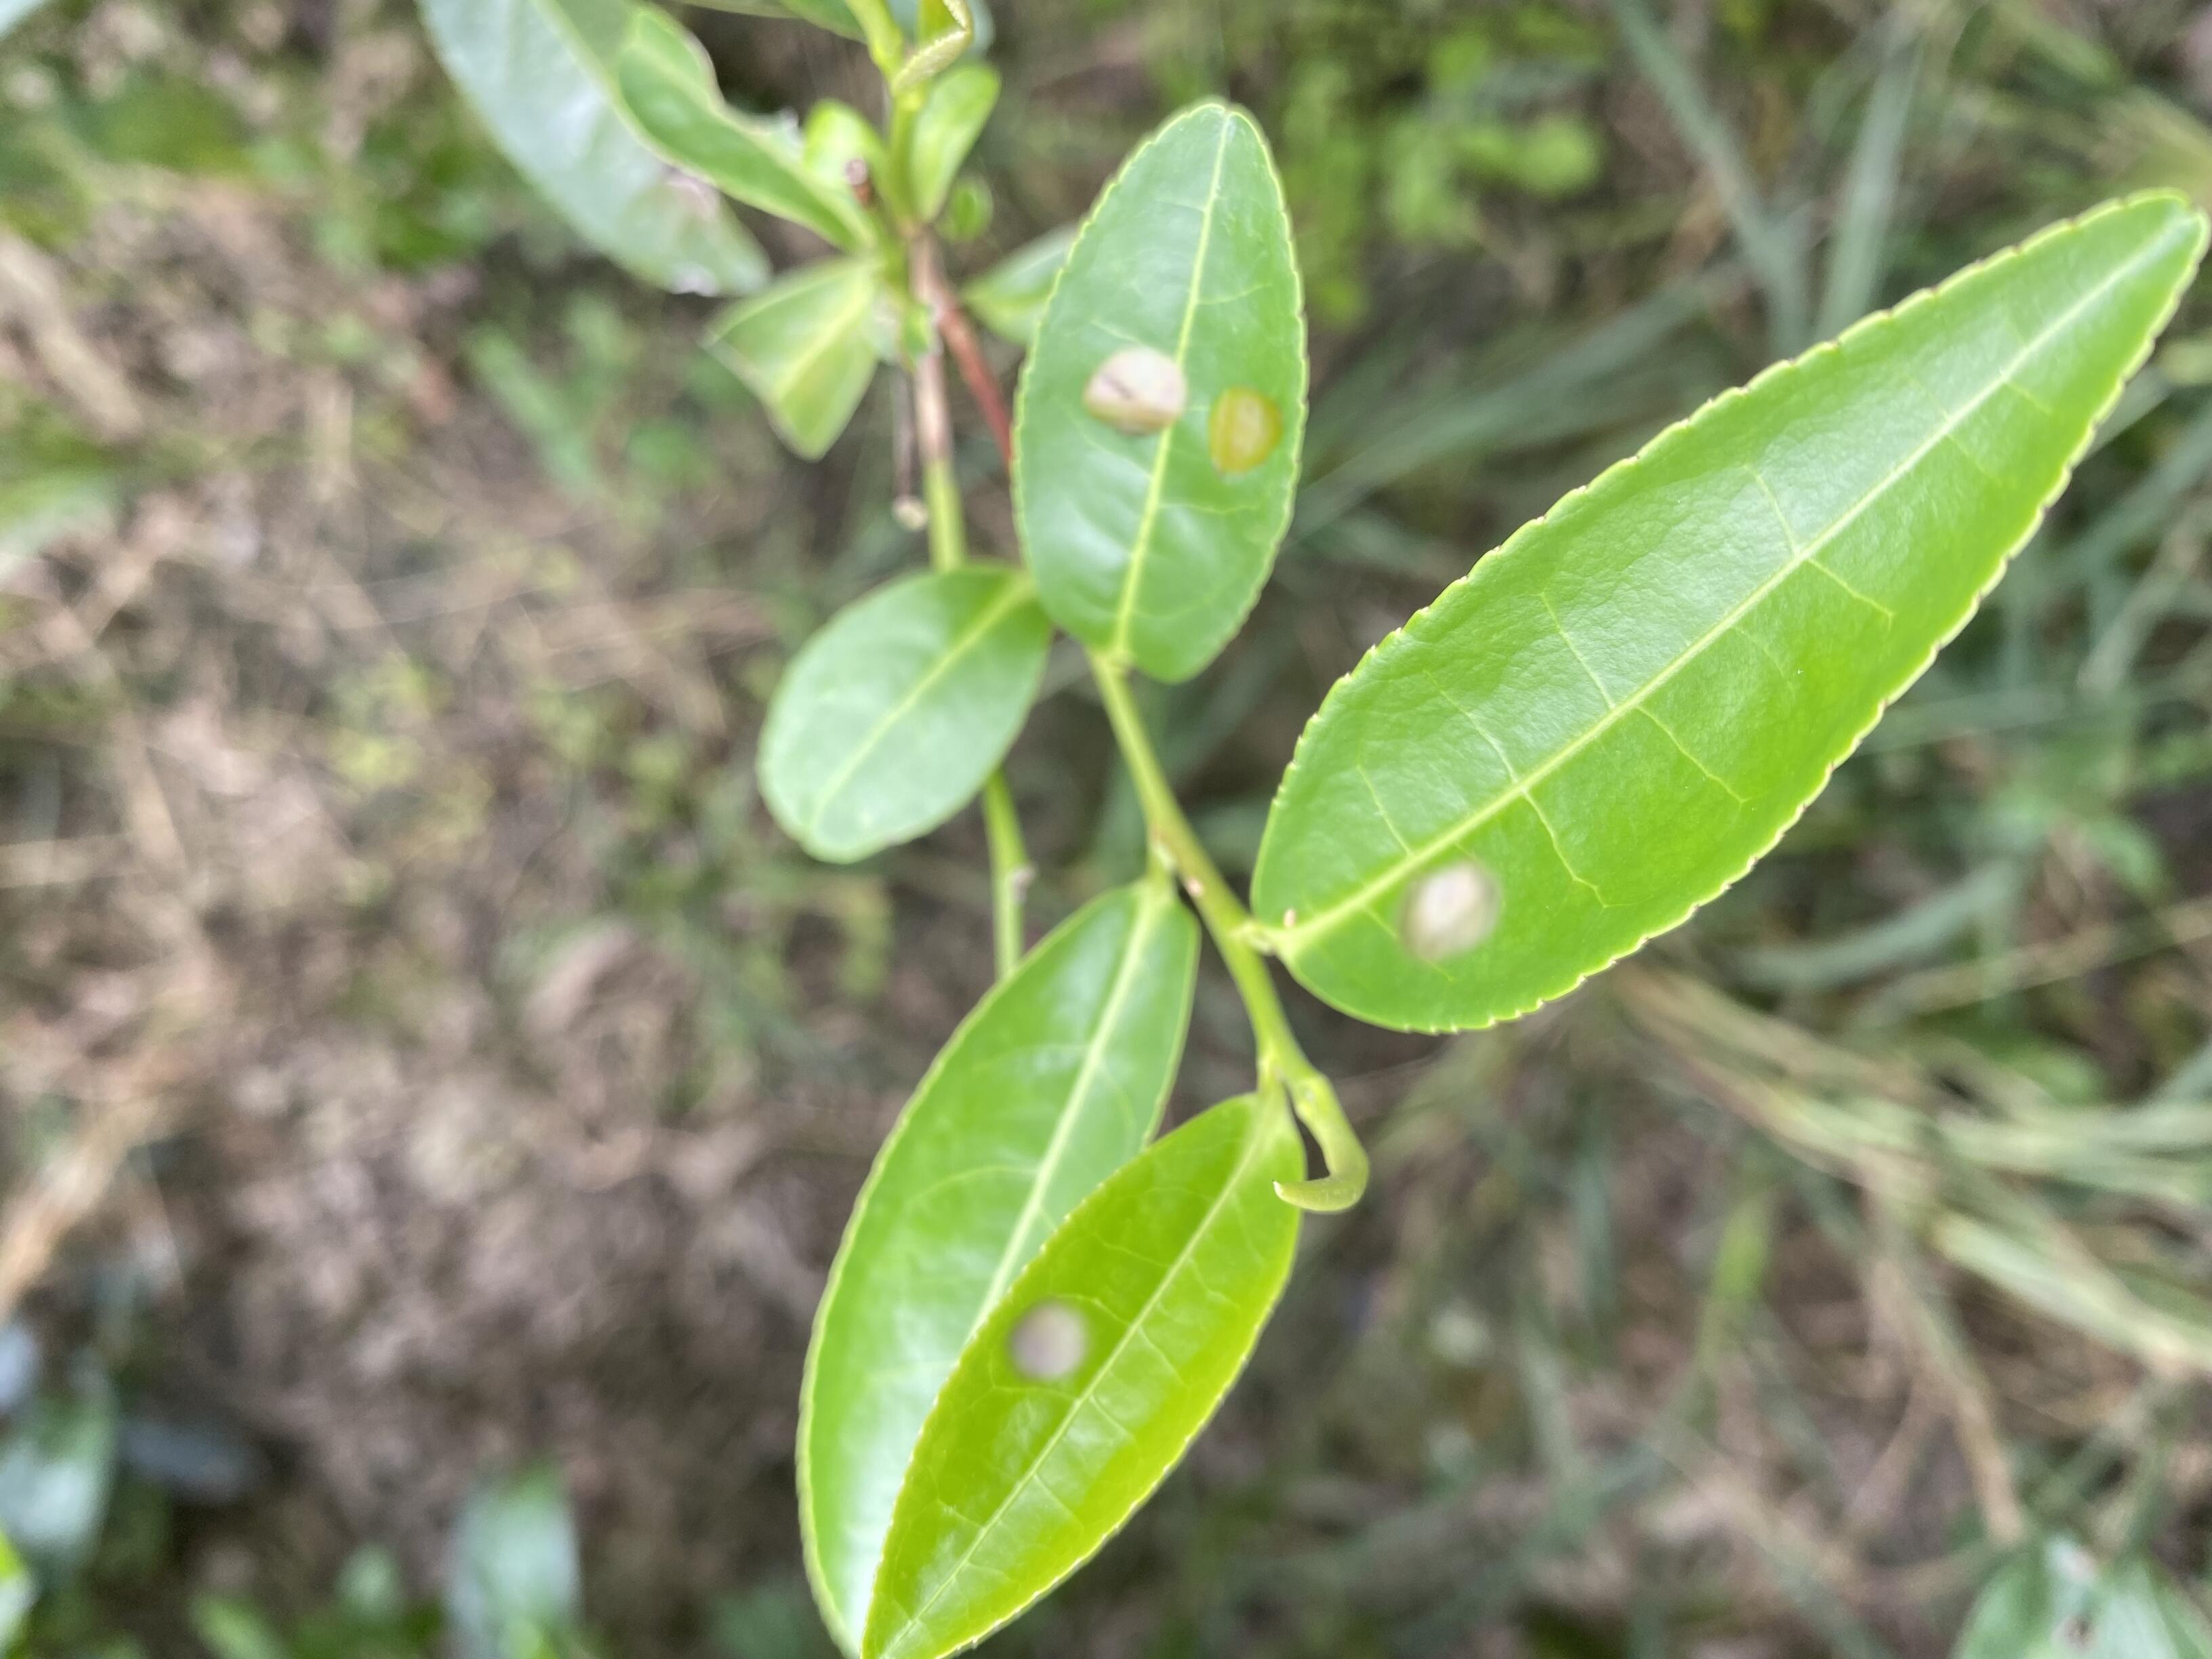chabing_high: (1012, 103, 1308, 683)
chabing_low: (1244, 192, 2205, 1037), (866, 1091, 1308, 1656)
chihuo_high: (704, 261, 885, 458)
